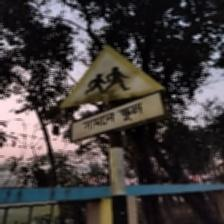School-in-front: (60, 45, 168, 143)
